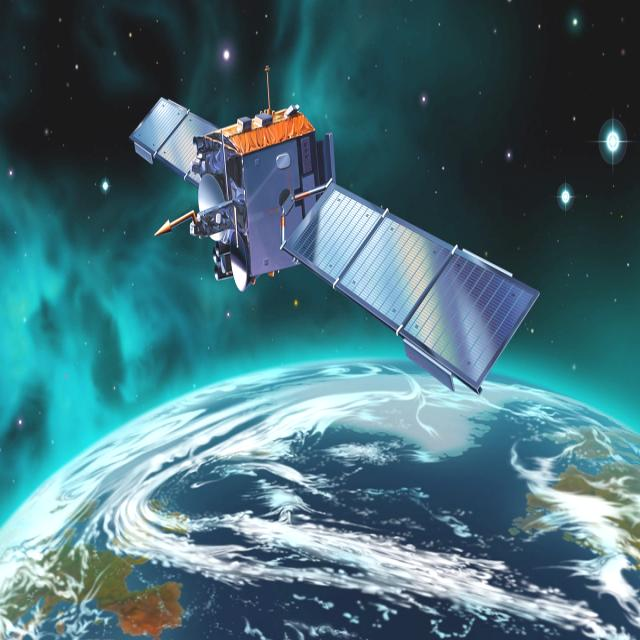medium_debris: (126, 77, 534, 407)
